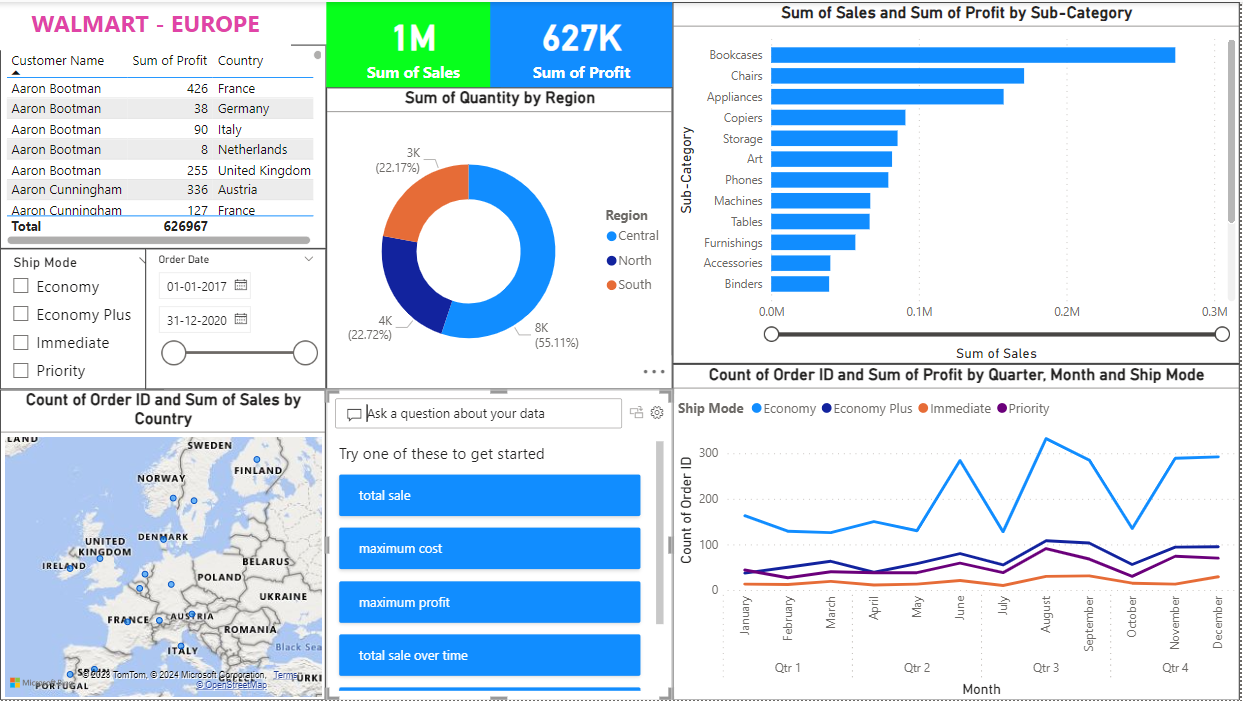

This screenshot's page, from the dashboard's own definition file:
{"tool":"powerbi","page":{"name":"Page 1","canvas":[1280,720],"ordinal":0},"visuals":[{"type":"tableEx","fields":{"Values":["List of Orders.Customer Name","List of Orders.Profit","List of Orders.Country"]},"box":[0,44.1,336.8,210.3],"z":0},{"type":"card","fields":{"Values":["List of Orders.Sales"]},"box":[336.8,0,179.4,88.3],"z":1000},{"type":"card","fields":{"Values":["List of Orders.Profit"]},"box":[506,0,188.3,88.3],"z":2000},{"type":"barChart","fields":{"Category":["List of Orders.Sub-Category"],"Y":["List of Orders.Sales"]},"box":[694.2,0,585.4,373.6],"z":3000},{"type":"lineChart","fields":{"Y":["List of Orders.Order ID"],"Category":["List of Orders.Order Date.Variation.Date Hierarchy.Quarter","List of Orders.Order Date.Variation.Date Hierarchy.Month"],"Series":["List of Orders.Ship Mode"]},"box":[694.2,373.6,585.4,347.1],"z":4000},{"type":"donutChart","fields":{"Y":["List of Orders.Quantity"],"Category":["List of Orders.Region"]},"box":[336.8,88.3,357.4,311.8],"z":5000},{"type":"map","fields":{"Category":["List of Orders.Country"]},"box":[0,400,336.2,320.7],"z":6000},{"type":"textbox","box":[0,0,300.1,50],"z":7000},{"type":"slicer","fields":{"Values":["List of Orders.Ship Mode"]},"box":[0,254.5,169.1,145.6],"z":8000},{"type":"slicer","fields":{"Values":["List of Orders.Order Date"]},"box":[150,254.5,186.8,145.6],"z":9000},{"type":"qnaVisual","box":[337,400,357,320],"z":9001}]}

Visuals, with their boxes in screenshot pixels (x1, y1, x2, y2), scaled from the page's 1280x720 canvas onto the 1243x701 screenshot:
tableEx - List of Orders.Customer Name x List of Orders.Profit: x1=0 y1=43 x2=327 y2=248
card - List of Orders.Sales: x1=327 y1=0 x2=501 y2=86
card - List of Orders.Profit: x1=491 y1=0 x2=674 y2=86
barChart - List of Orders.Sub-Category x List of Orders.Sales: x1=674 y1=0 x2=1242 y2=364
lineChart - List of Orders.Order ID x List of Orders.Order Date.Variation.Date Hierarchy.Quarter: x1=674 y1=364 x2=1242 y2=700
donutChart - List of Orders.Quantity x List of Orders.Region: x1=327 y1=86 x2=674 y2=390
map - List of Orders.Country: x1=0 y1=389 x2=326 y2=700
textbox: x1=0 y1=0 x2=291 y2=49
slicer - List of Orders.Ship Mode: x1=0 y1=248 x2=164 y2=390
slicer - List of Orders.Order Date: x1=146 y1=248 x2=327 y2=390
qnaVisual: x1=327 y1=389 x2=674 y2=700
